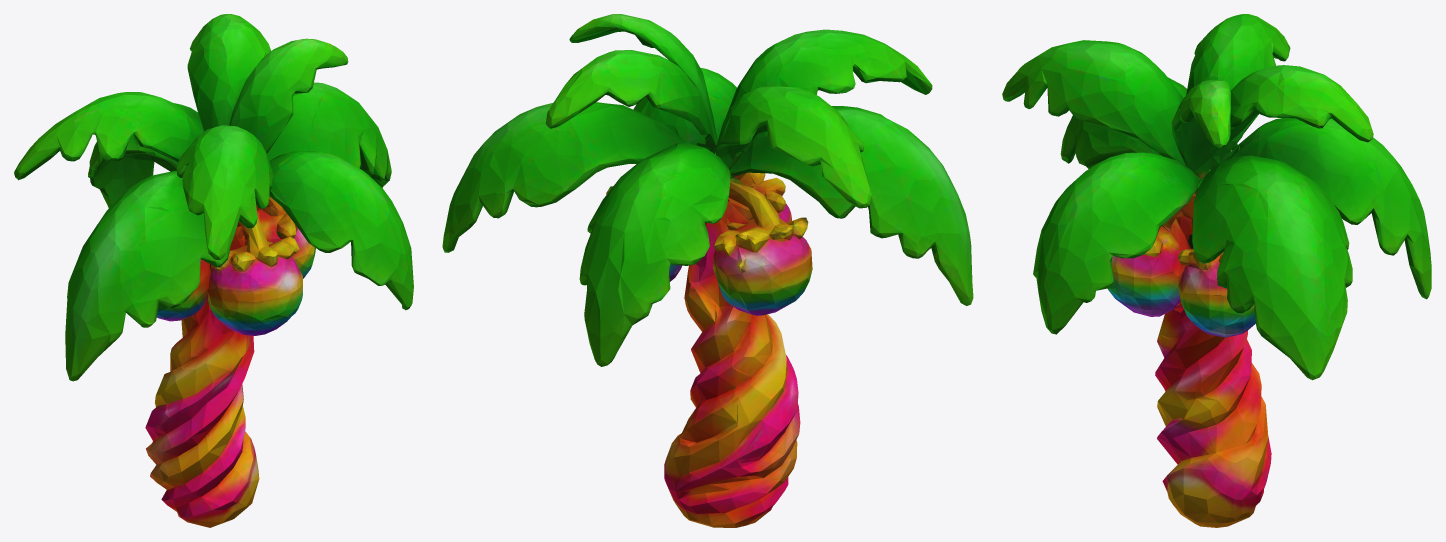
The model's file is palmier.glb.
3 renders of one model, left to right at view 1: azimuth 30°, elevation 25°; view 2: azimuth 150°, elevation 25°; view 3: azimuth 270°, elevation 25°, orthographic. The views are drawn at different scales.
Visible parts, largest first — view 1: geometry_0; view 2: geometry_0; view 3: geometry_0.
Boxes of the visible parts, x1=… form: geometry_0: x1=14, y1=14, x2=413, y2=527; geometry_0: x1=442, y1=14, x2=973, y2=527; geometry_0: x1=1002, y1=14, x2=1431, y2=527.
Size of the model in its own units: 0.9244 by 0.9959 by 0.8066.
Materials: 1 (1 with a texture image).
